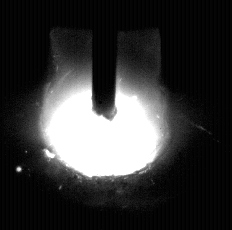arame: (92, 0, 117, 120)
poca: (38, 0, 171, 230)
